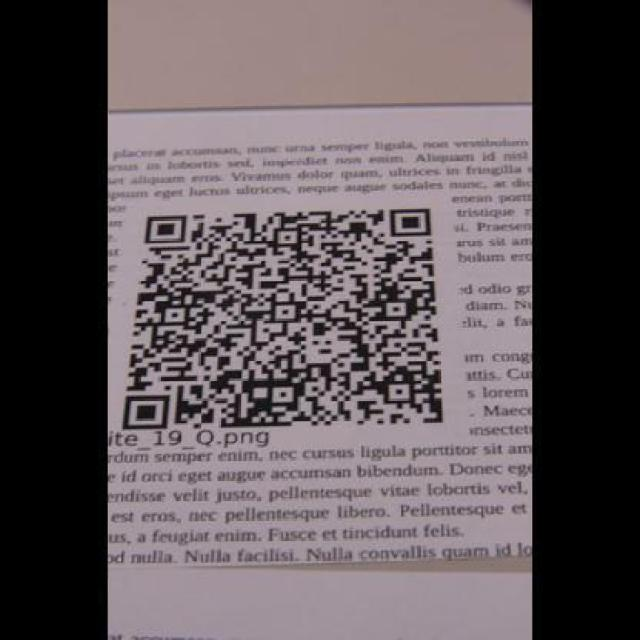QRCode: (115, 199, 454, 432)
